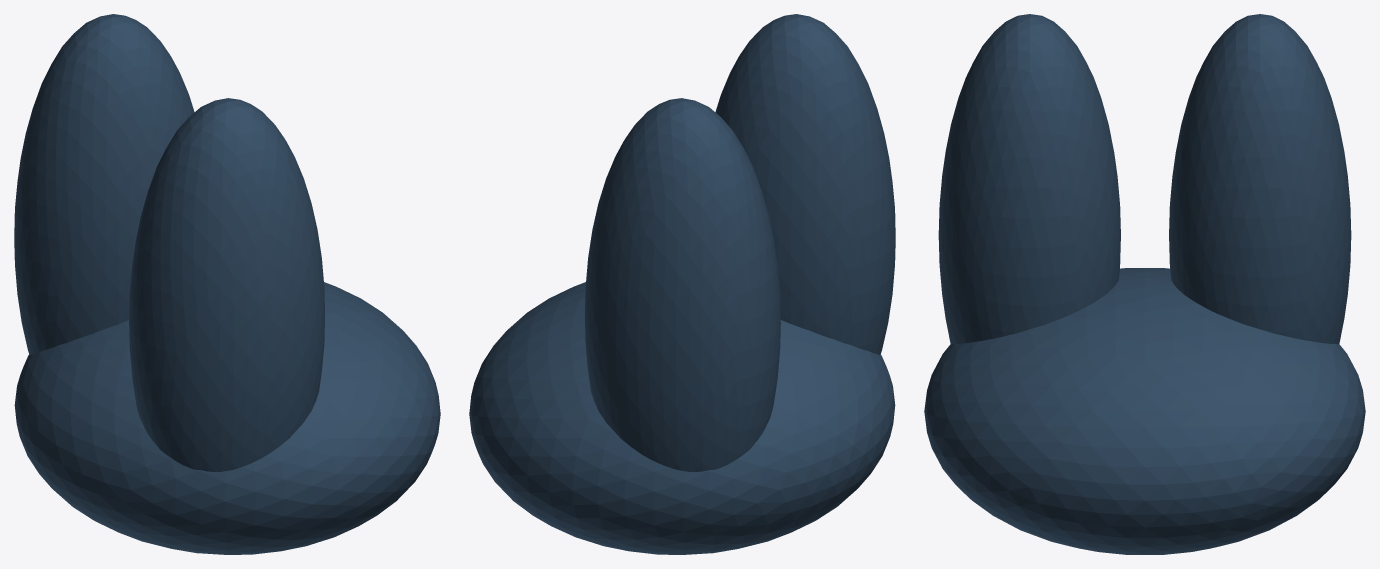
Rendered from ear-bonnet-template.glb.
The picture shows the model from 3 angles, left to right: view 1: azimuth 30°, elevation 25°; view 2: azimuth 150°, elevation 25°; view 3: azimuth 270°, elevation 25°; orthographic projection.
Parts seen in each view (by area): view 1: gear_0_EarBonnet_Forehead, gear_2_EarBonnet_Ear_1, gear_1_EarBonnet_Ear_-1; view 2: gear_0_EarBonnet_Forehead, gear_1_EarBonnet_Ear_-1, gear_2_EarBonnet_Ear_1; view 3: gear_0_EarBonnet_Forehead, gear_1_EarBonnet_Ear_-1, gear_2_EarBonnet_Ear_1.
Boxes of the visible parts, x1,y1,x2,y2 form: gear_0_EarBonnet_Forehead: (14,282,440,554); gear_2_EarBonnet_Ear_1: (129,98,324,471); gear_1_EarBonnet_Ear_-1: (14,14,194,354); gear_0_EarBonnet_Forehead: (469,282,895,554); gear_1_EarBonnet_Ear_-1: (585,98,780,471); gear_2_EarBonnet_Ear_1: (715,14,895,354); gear_0_EarBonnet_Forehead: (924,268,1365,554); gear_1_EarBonnet_Ear_-1: (1169,14,1351,344); gear_2_EarBonnet_Ear_1: (938,14,1120,344).
Size of the model in its own units: 0.44 by 0.55 by 0.46.
